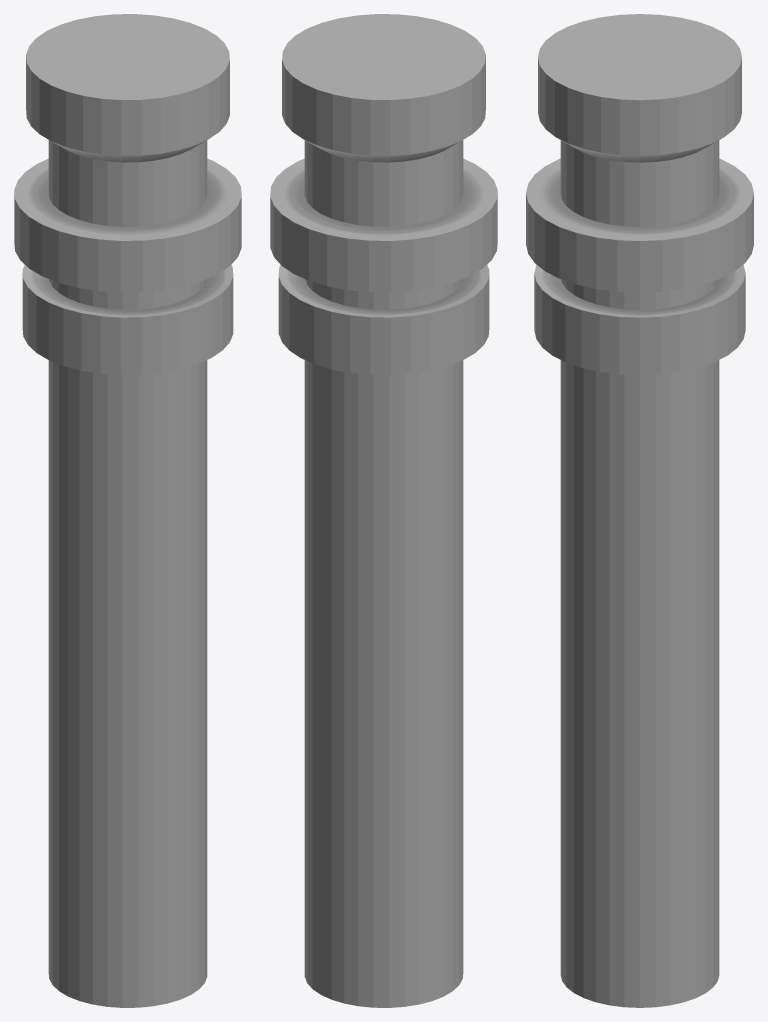
The model's file is Pipe1.fbx.
3 renders of one model, left to right at view 1: azimuth 30°, elevation 25°; view 2: azimuth 150°, elevation 25°; view 3: azimuth 270°, elevation 25°, orthographic.
Parts seen in each view (by area): view 1: Pipe1; view 2: Pipe1; view 3: Pipe1.
Part boxes in pixels (x1,y1,x2,y2): Pipe1: (14, 14, 241, 1007); Pipe1: (270, 14, 497, 1007); Pipe1: (526, 14, 753, 1007).
Bounding box in the file's own units: 287 × 1273 × 287.
